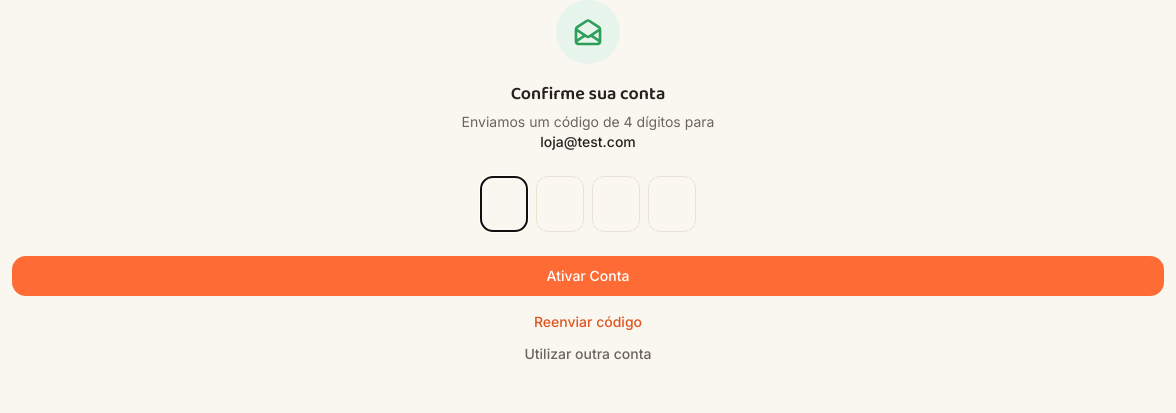
Test: VerifyAccountPage (smoke) › código inválido mostra mensagem de erro
Type "0" into the 1st field at (504, 204), box [480,176,528,232]
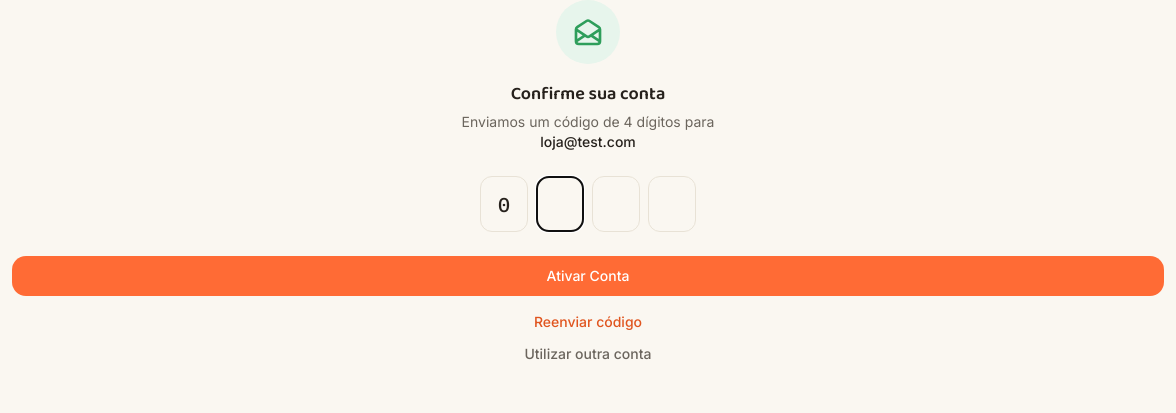
Type "0" into the 2nd field at (560, 204), box [536,176,584,232]
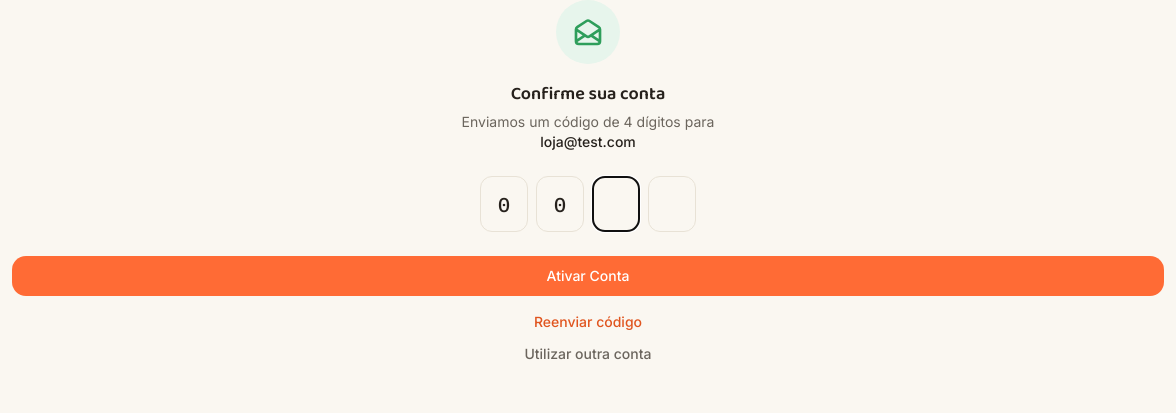
Type "0" into the 3rd field at (616, 204), box [592,176,640,232]
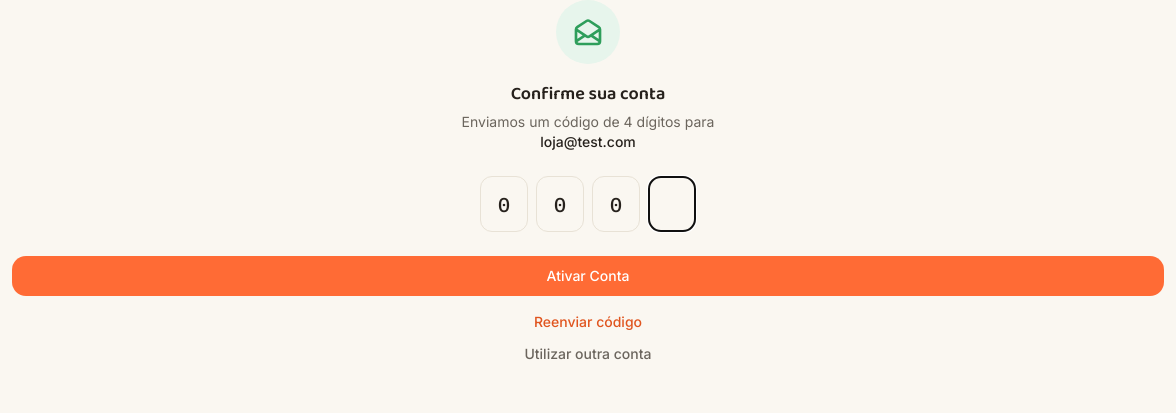
Type "0" into the 4th field at (672, 204), box [648,176,696,232]
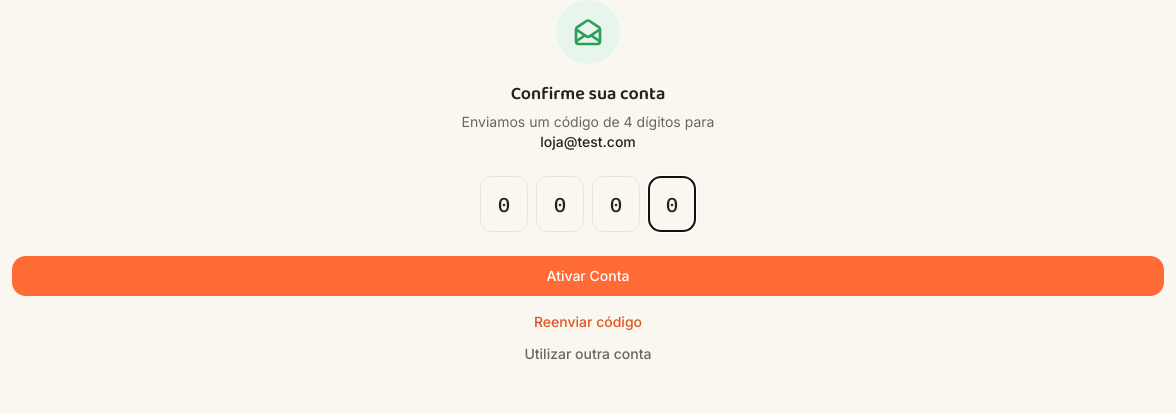
Click the button "Ativar Conta" at (588, 276), box [12,256,1164,296]
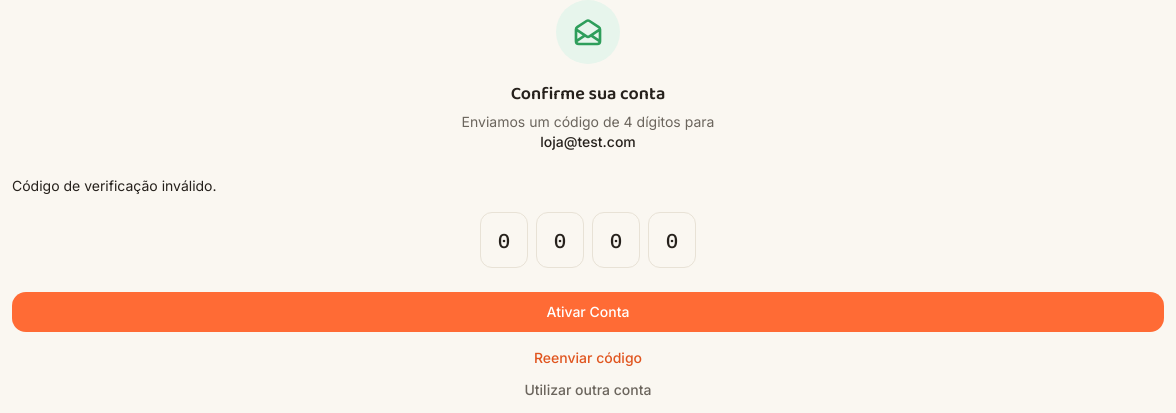
Expected: the text "Código de verificação inválido." is shown, [12,176,216,196]
